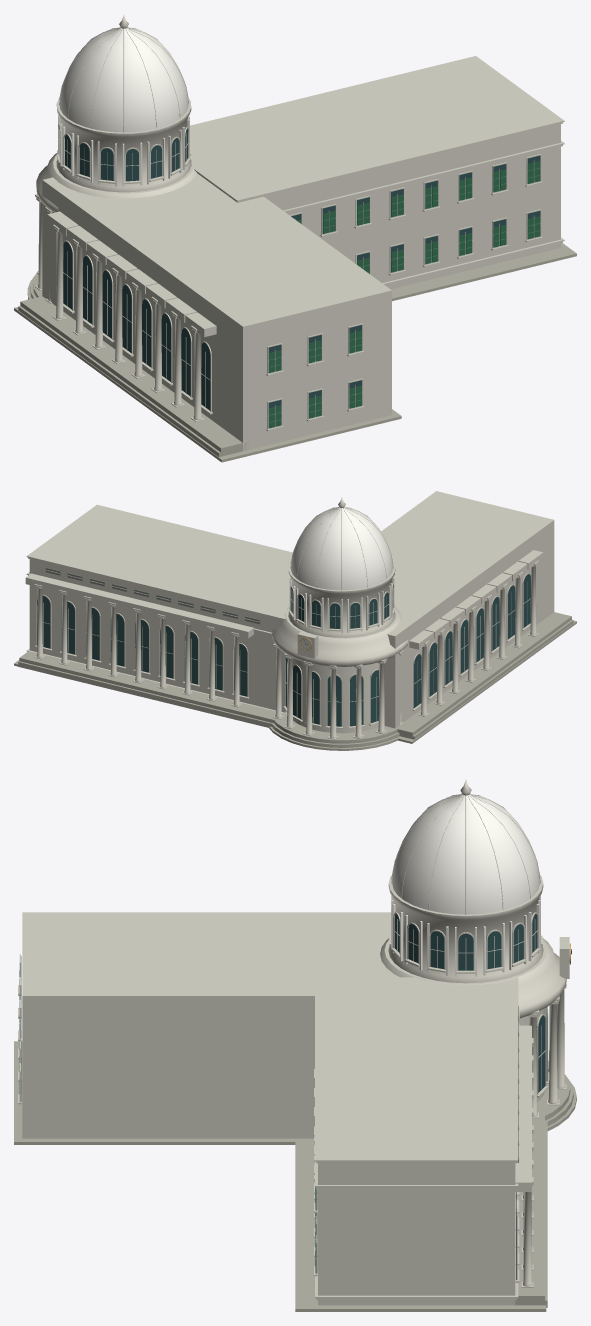
File: GPO_gpo_Roblox.fbx
3 renders of one model, top to bottom at view 1: azimuth 30°, elevation 25°; view 2: azimuth 150°, elevation 25°; view 3: azimuth 270°, elevation 25°, orthographic. The views are drawn at different scales.
Visible parts, largest first — view 1: GPO_ReturnWing__Ivory_RBX, GPO_CorniceBands__Ivory_RBX, GPO_EastWing__Ivory_RBX, GPO_TallRibbedDome__White_RBX, GPO_ReturnColonnadePodium__Stone_RBX, GPO_DomeDrum__Ivory_RBX, GPO_EastFoundation__Stone_RBX, GPO_CurvedColonnade__Ivory_RBX, GPO_ReturnFoundation__Stone_RBX, GPO_ReturnColonnade_7__Ivory_RBX, GPO_ReturnColonnade_3__Ivory_RBX, GPO_ReturnColonnade_6__Ivory_RBX (+16 smaller); view 2: GPO_ReturnWing__Ivory_RBX, GPO_CorniceBands__Ivory_RBX, GPO_EastWing__Ivory_RBX, GPO_CurvedColonnade__Ivory_RBX, GPO_TallRibbedDome__White_RBX, GPO_ReturnColonnadePodium__Stone_RBX, GPO_EastColonnadePodium__Stone_RBX, GPO_DomeDrum__Ivory_RBX, GPO_CornerRotundaBody__Ivory_RBX, GPO_CurvedColonnade__Glass_RBX, GPO_CornerRotundaBody__Stone_RBX, GPO_EastPodiumStep__Stone_RBX (+40 smaller); view 3: GPO_ReturnWing__Ivory_RBX, GPO_CorniceBands__Ivory_RBX, GPO_EastWing__Ivory_RBX, GPO_TallRibbedDome__White_RBX, GPO_CurvedColonnade__Ivory_RBX, GPO_DomeDrum__Ivory_RBX, GPO_EastFoundation__Stone_RBX, GPO_EastColonnadePodium__Stone_RBX, GPO_ReturnFoundation__Stone_RBX, GPO_EastColonnade_8__Ivory_RBX, GPO_TallRibbedDome__Ivory_RBX, GPO_CornerRotundaBody__Stone_RBX (+1 smaller).
Part boxes in pixels (x1,y1,x2,y2): GPO_ReturnWing__Ivory_RBX: (42, 173, 391, 451); GPO_CorniceBands__Ivory_RBX: (190, 56, 564, 286); GPO_EastWing__Ivory_RBX: (264, 124, 560, 289); GPO_TallRibbedDome__White_RBX: (59, 27, 188, 132); GPO_ReturnColonnadePodium__Stone_RBX: (20, 297, 248, 456); GPO_DomeDrum__Ivory_RBX: (56, 97, 191, 192); GPO_EastFoundation__Stone_RBX: (391, 243, 576, 301); GPO_CurvedColonnade__Ivory_RBX: (35, 152, 196, 303); GPO_ReturnFoundation__Stone_RBX: (14, 307, 401, 462); GPO_ReturnColonnade_7__Ivory_RBX: (185, 312, 216, 421); GPO_ReturnColonnade_3__Ivory_RBX: (106, 254, 137, 364); GPO_ReturnColonnade_6__Ivory_RBX: (165, 298, 196, 407); GPO_ReturnWing__Ivory_RBX: (381, 491, 554, 728); GPO_CorniceBands__Ivory_RBX: (26, 504, 292, 713); GPO_EastWing__Ivory_RBX: (29, 559, 286, 712); GPO_CurvedColonnade__Ivory_RBX: (272, 606, 407, 739); GPO_TallRibbedDome__White_RBX: (291, 507, 392, 590); GPO_ReturnColonnadePodium__Stone_RBX: (397, 612, 571, 738); GPO_EastColonnadePodium__Stone_RBX: (19, 651, 283, 723); GPO_DomeDrum__Ivory_RBX: (288, 563, 395, 637); GPO_CornerRotundaBody__Ivory_RBX: (287, 614, 394, 733); GPO_CurvedColonnade__Glass_RBX: (285, 658, 378, 726); GPO_CornerRotundaBody__Stone_RBX: (272, 713, 411, 747); GPO_EastPodiumStep__Stone_RBX: (18, 661, 274, 727); GPO_ReturnWing__Ivory_RBX: (22, 912, 399, 1138); GPO_CorniceBands__Ivory_RBX: (315, 977, 518, 1301); GPO_EastWing__Ivory_RBX: (318, 1163, 515, 1305); GPO_TallRibbedDome__White_RBX: (392, 794, 539, 914); GPO_CurvedColonnade__Ivory_RBX: (380, 938, 566, 1118); GPO_DomeDrum__Ivory_RBX: (388, 875, 543, 983); GPO_EastFoundation__Stone_RBX: (295, 1138, 546, 1311); GPO_EastColonnadePodium__Stone_RBX: (512, 1115, 544, 1305); GPO_ReturnFoundation__Stone_RBX: (14, 1041, 295, 1144); GPO_EastColonnade_8__Ivory_RBX: (515, 1164, 533, 1287); GPO_TallRibbedDome__Ivory_RBX: (391, 779, 540, 914); GPO_CornerRotundaBody__Stone_RBX: (537, 1061, 573, 1125).
Bounding box in the file's own units: 154 × 86.15 × 137.
